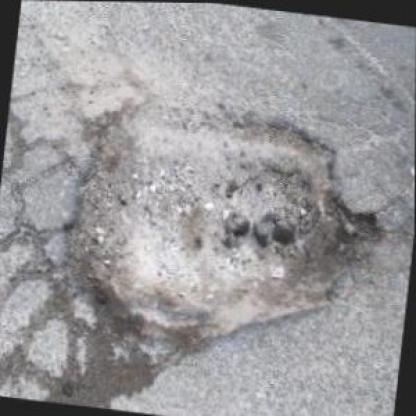pothole: (47, 87, 394, 378)
